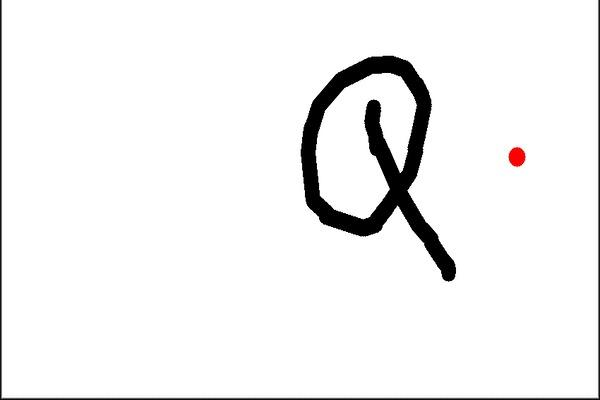Q: (290, 45, 466, 292)
